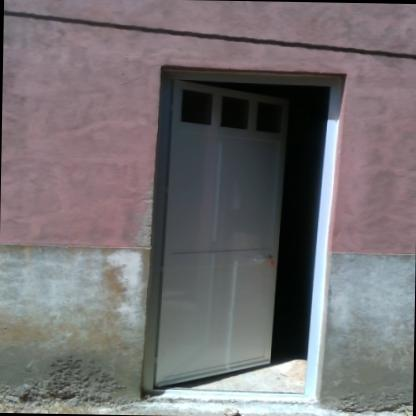semi: (143, 49, 346, 408)
